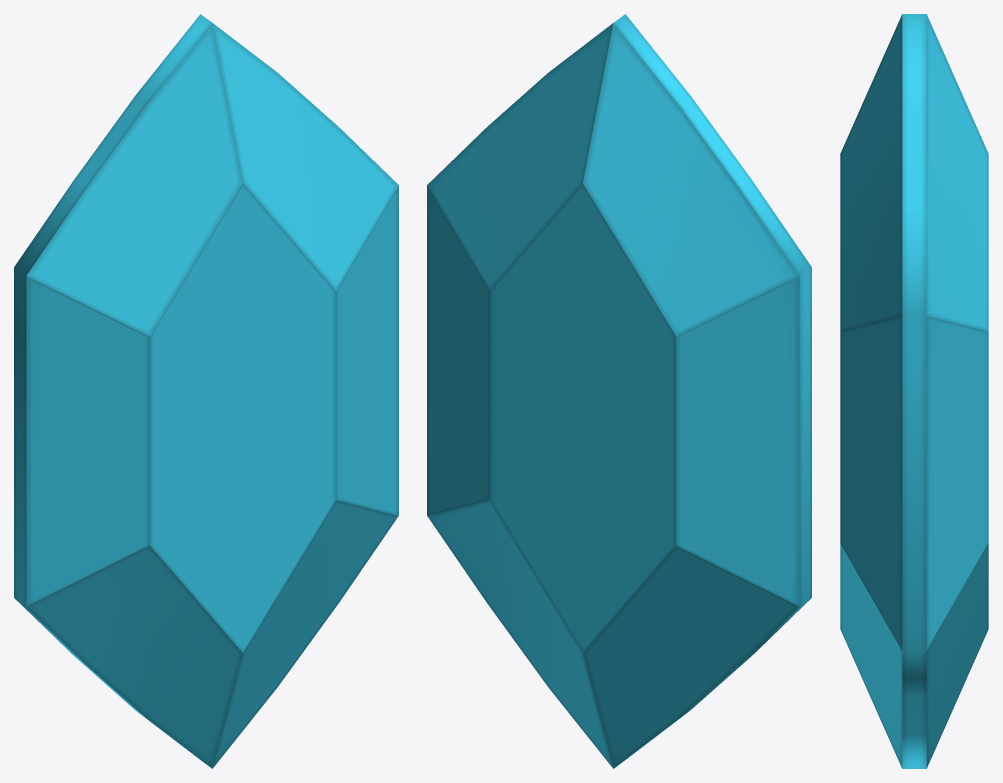
File: Crystal_Ice.fbx
The picture shows the model from 3 angles, left to right: view 1: azimuth 30°, elevation 25°; view 2: azimuth 150°, elevation 25°; view 3: azimuth 270°, elevation 25°; orthographic projection.
Visible parts, largest first — view 1: pCube1; view 2: pCube1; view 3: pCube1.
Part boxes in pixels (box(x1,y1,x2,y2)): pCube1: box(14, 14, 398, 768); pCube1: box(427, 14, 811, 768); pCube1: box(840, 14, 988, 768).
Size of the model in its own units: 1 by 1.91 by 0.3404.
1 material, 1 textured.
